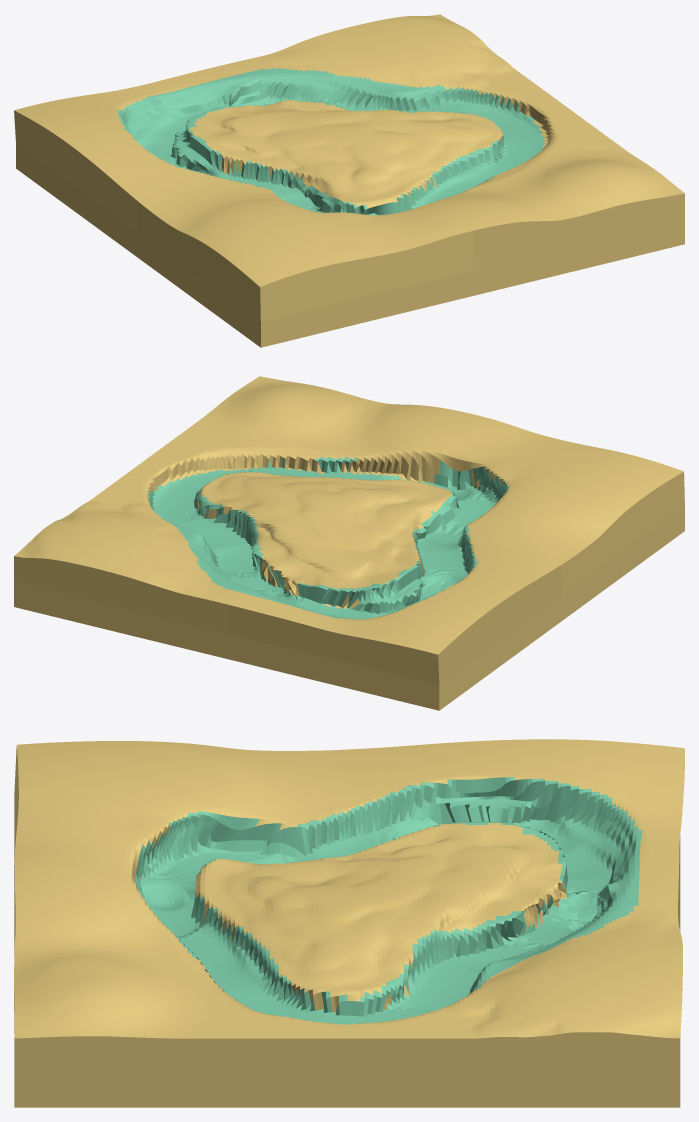
File: map.fbx
The picture shows the model from 3 angles, top to bottom: view 1: azimuth 30°, elevation 25°; view 2: azimuth 150°, elevation 25°; view 3: azimuth 270°, elevation 25°; orthographic projection. The views are drawn at different scales.
Parts seen in each view (by area): view 1: Cube; view 2: Cube; view 3: Cube.
Boxes of the visible parts, box(x1,y1,x2,y2) form: Cube: box(14, 14, 684, 347); Cube: box(14, 376, 684, 710); Cube: box(14, 739, 684, 1107).
Bounding box in the file's own units: 201 × 30.78 × 202.
